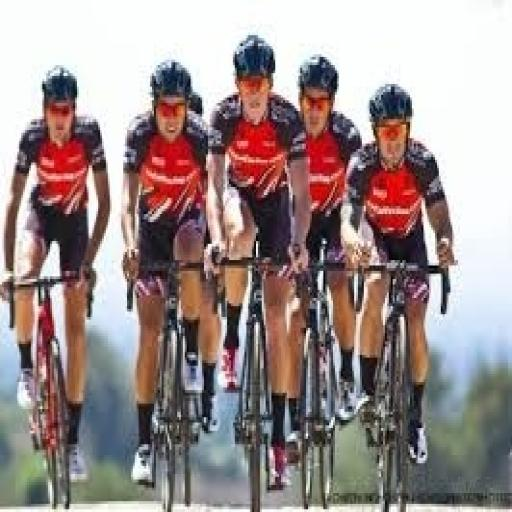cycling: (206, 33, 314, 493), (0, 62, 114, 488), (339, 82, 460, 472), (120, 57, 220, 490)
